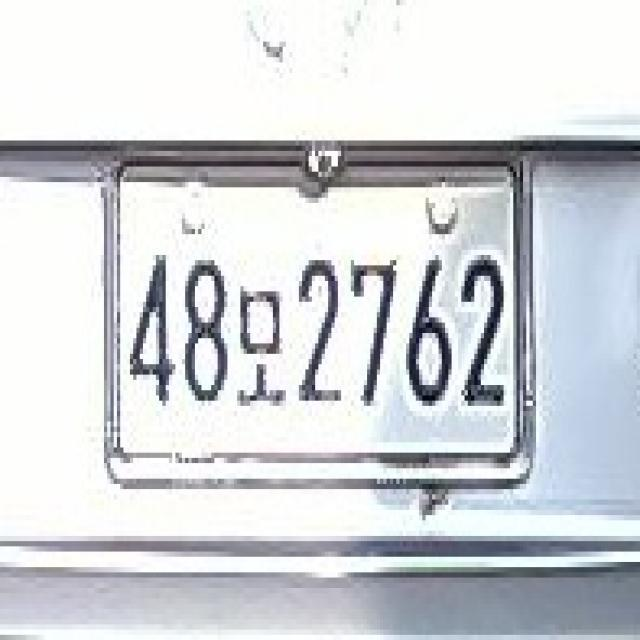2: (293, 248, 344, 428), (458, 250, 510, 420)
4: (122, 244, 178, 414)
6: (406, 256, 454, 415)
7: (348, 252, 399, 416)
8: (180, 254, 230, 406)
license_plate: (88, 133, 546, 500)
mo: (234, 277, 288, 428)
